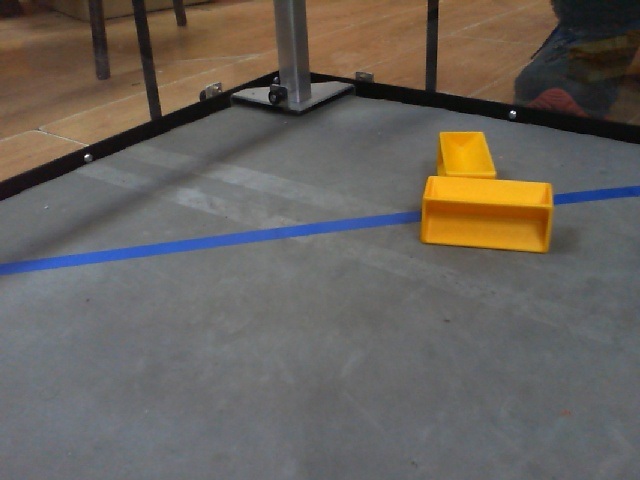YellowSample: (416, 174, 558, 253), (430, 124, 499, 193)
